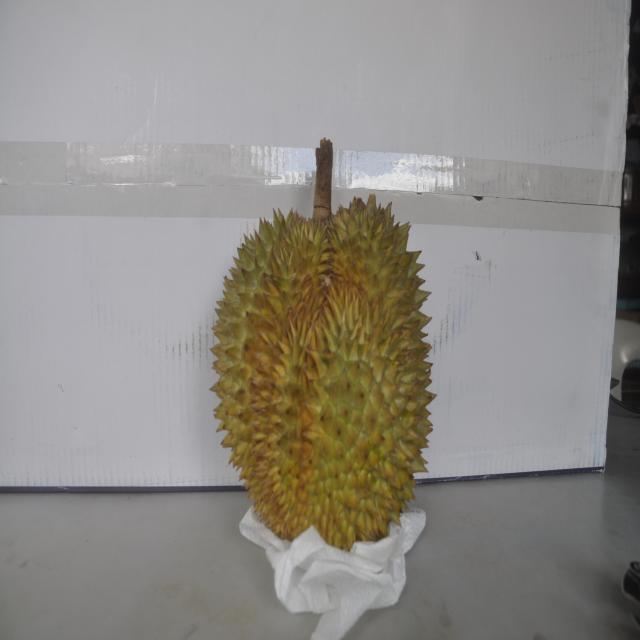mature: (209, 159, 430, 547)
